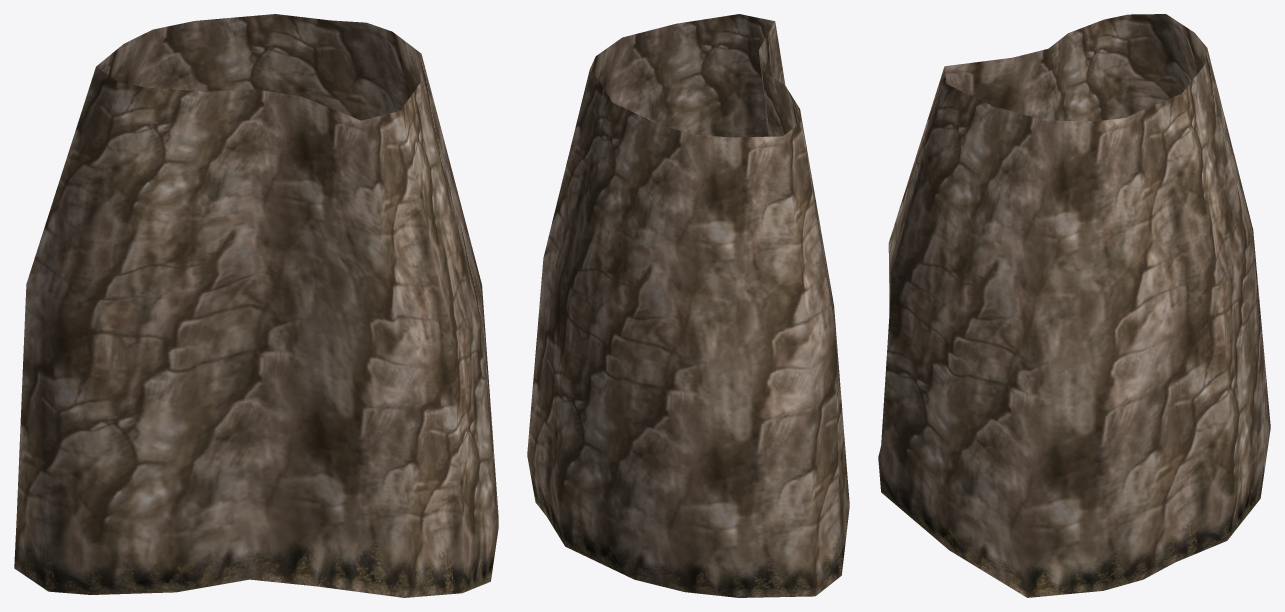
The model's file is OVERHILL_A_01_LINE252.fbx.
3 views of the same model, side by side, from view 1: azimuth 30°, elevation 25°; view 2: azimuth 150°, elevation 25°; view 3: azimuth 270°, elevation 25° (orthographic). The views are drawn at different scales.
Visible parts, largest first — view 1: OVERHILL_A_01_LINE252; view 2: OVERHILL_A_01_LINE252; view 3: OVERHILL_A_01_LINE252.
Boxes of the visible parts, box(x1,y1,x2,y2) form: OVERHILL_A_01_LINE252: box(14, 14, 498, 597); OVERHILL_A_01_LINE252: box(527, 14, 849, 597); OVERHILL_A_01_LINE252: box(878, 14, 1270, 597).
Size of the model in its own units: 57038 by 74124 by 57818.
Materials: 2 (2 with a texture image).
